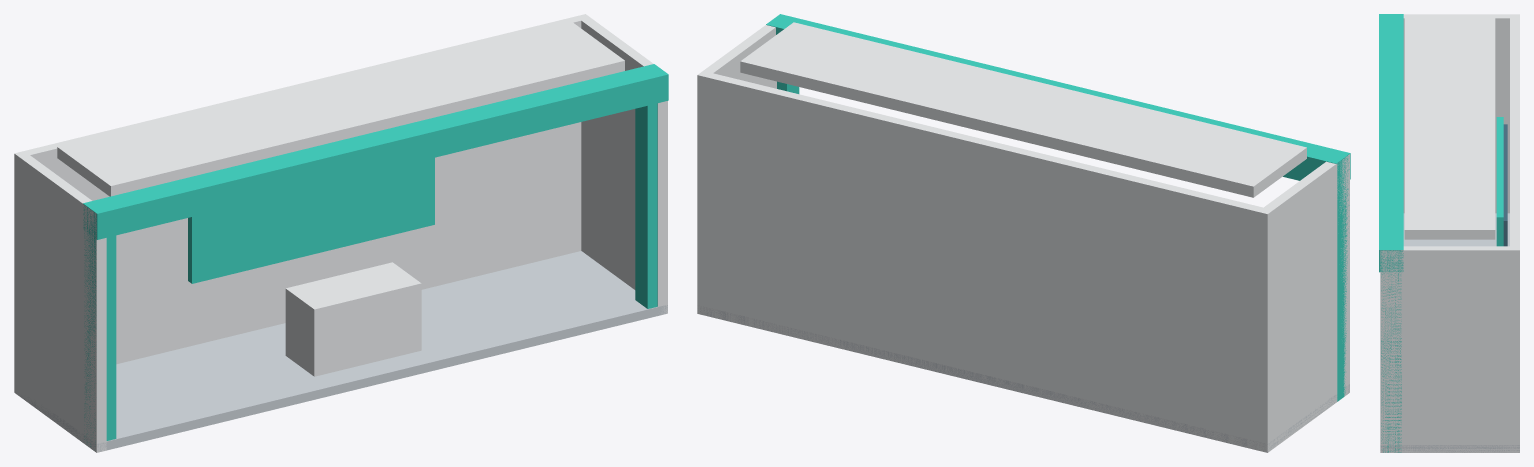
The picture shows the model from 3 angles, left to right: view 1: azimuth 30°, elevation 25°; view 2: azimuth 150°, elevation 25°; view 3: azimuth 270°, elevation 25°; orthographic projection. The views are drawn at different scales.
Parts seen in each view (by area): view 1: Exhibition Booth Concept; view 2: Exhibition Booth Concept; view 3: Exhibition Booth Concept.
Part boxes in pixels (x1=…): Exhibition Booth Concept: x1=14, y1=14, x2=668, y2=452; Exhibition Booth Concept: x1=697, y1=14, x2=1350, y2=452; Exhibition Booth Concept: x1=1379, y1=14, x2=1519, y2=452.
Bounding box in the file's own units: 8 × 3.34 × 2.01.
